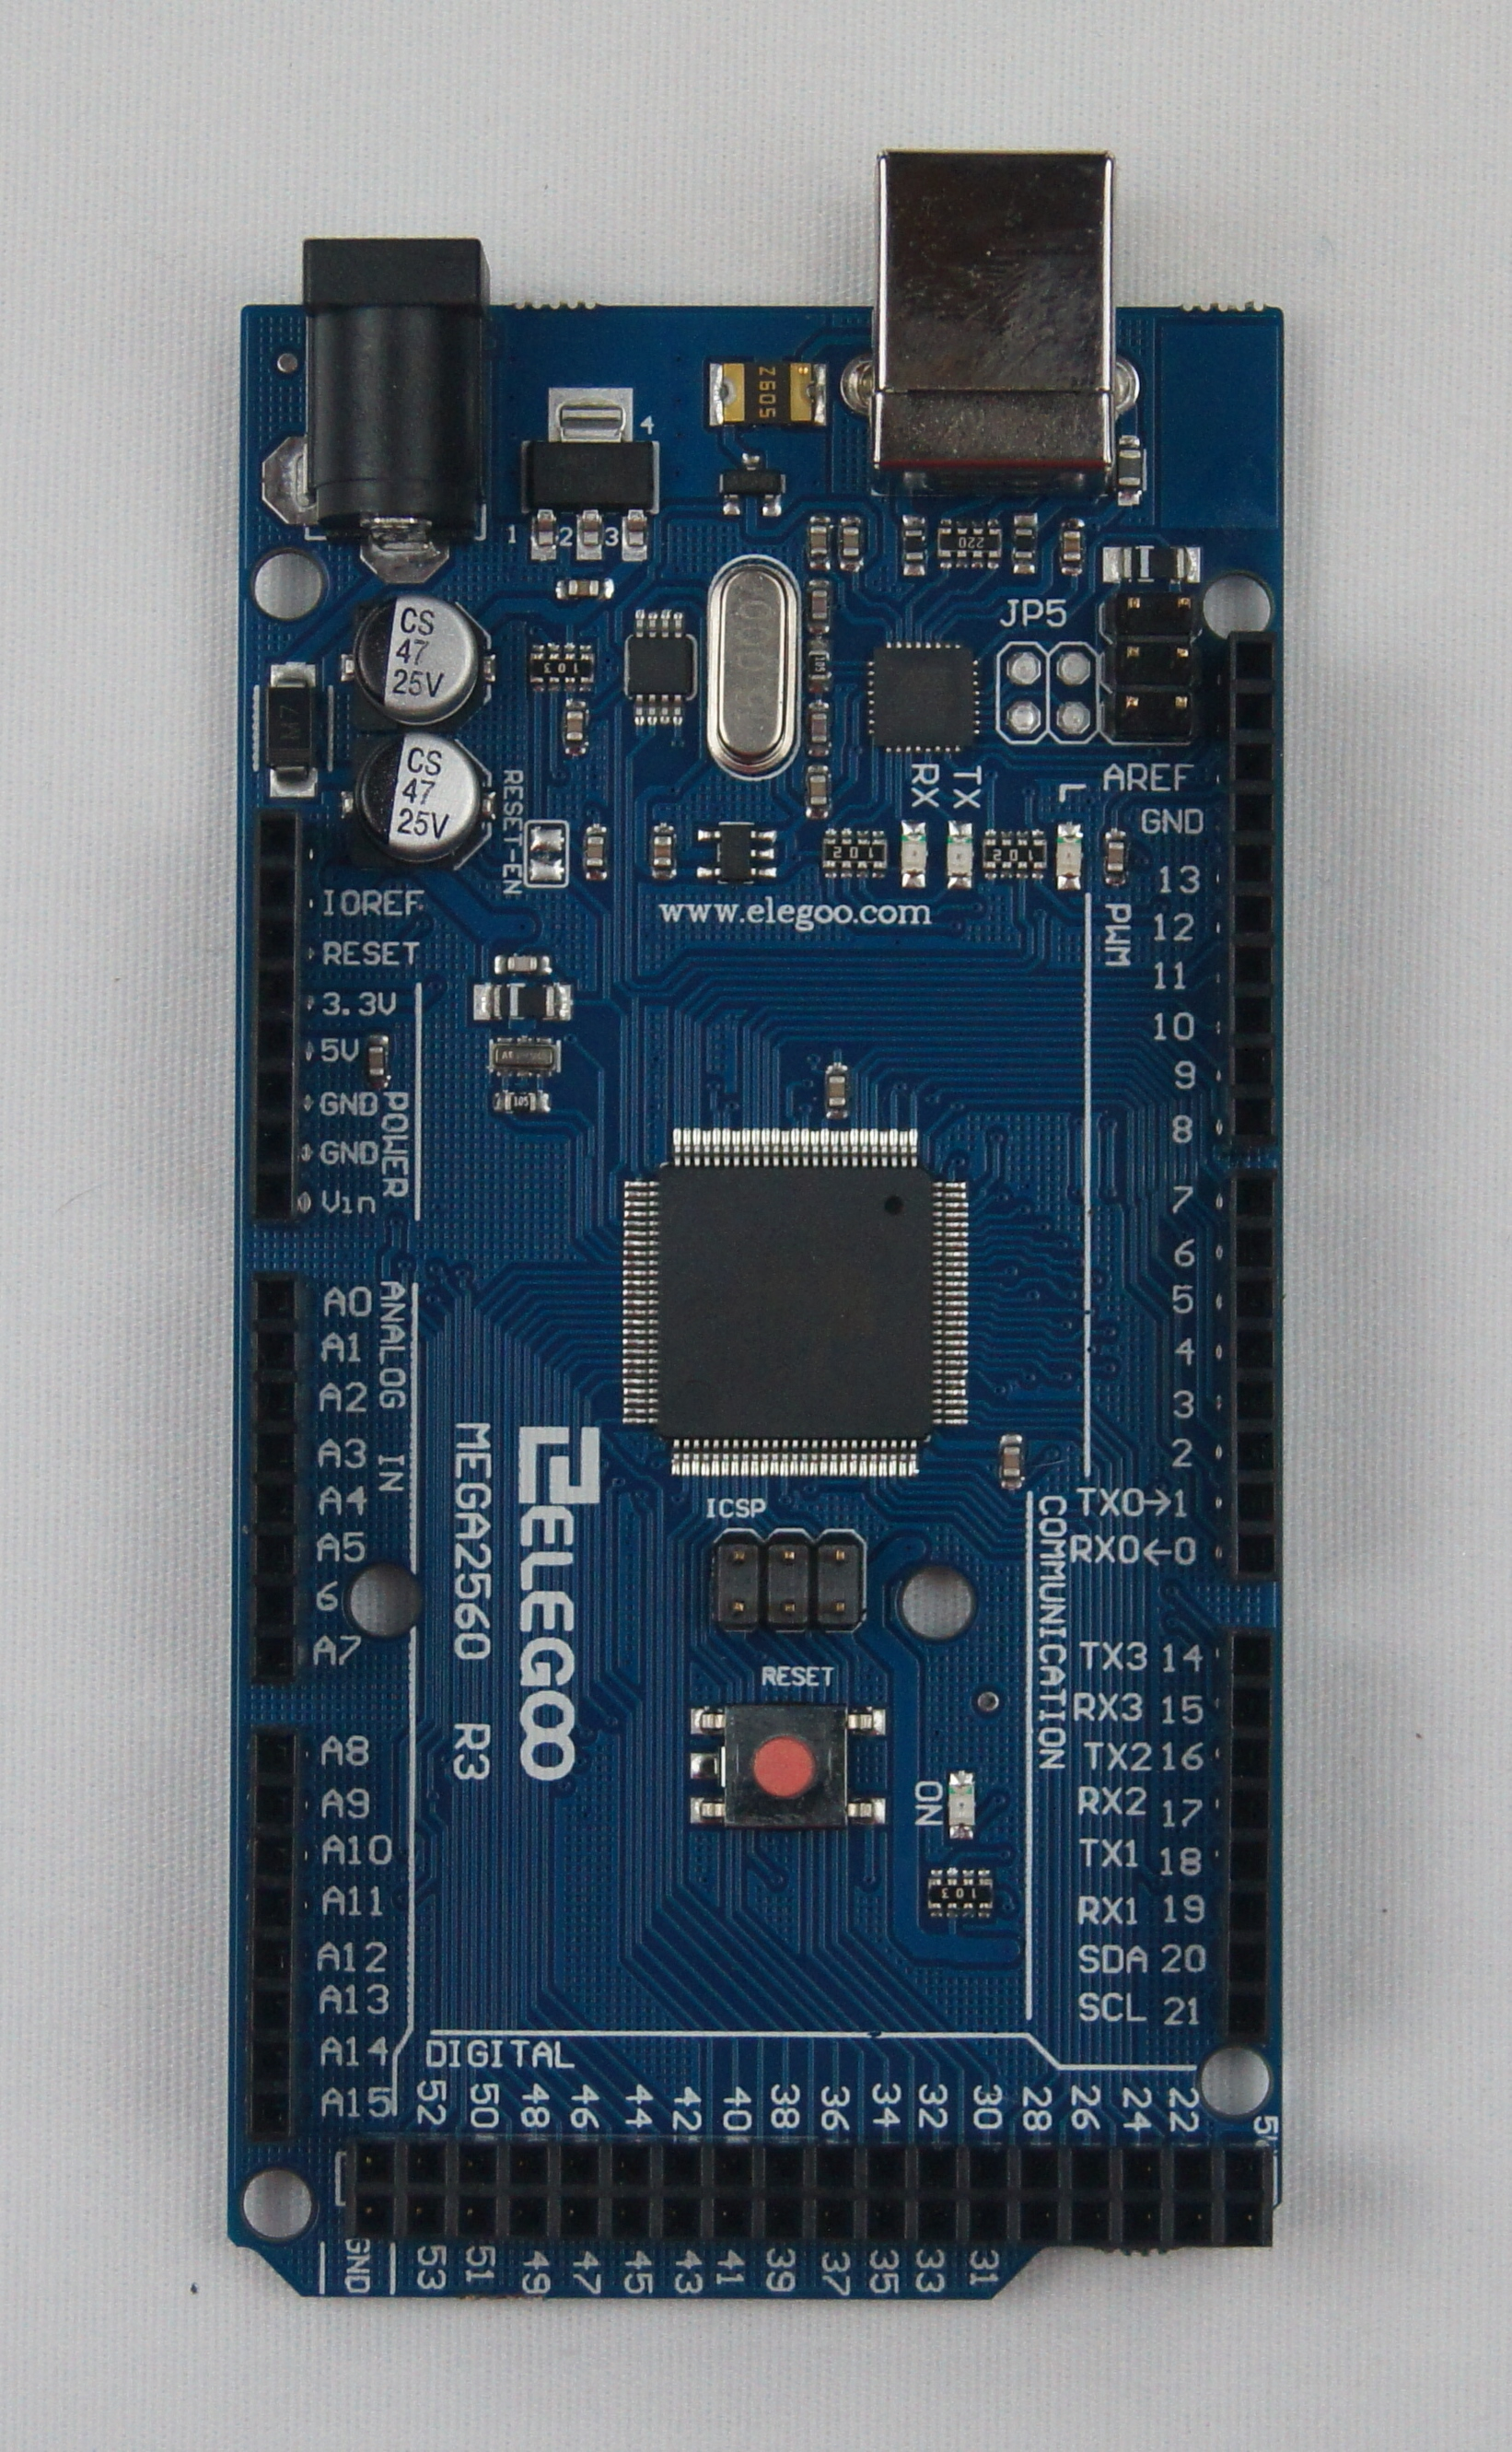connector: (343, 2137, 1272, 2252), (1223, 629, 1284, 1151), (243, 1722, 304, 2144), (1218, 1624, 1278, 2049), (1222, 1170, 1281, 1587), (249, 1268, 303, 1687), (250, 806, 301, 1228), (709, 1531, 863, 1636), (1108, 588, 1199, 746), (996, 643, 1047, 741), (1050, 645, 1099, 743)
